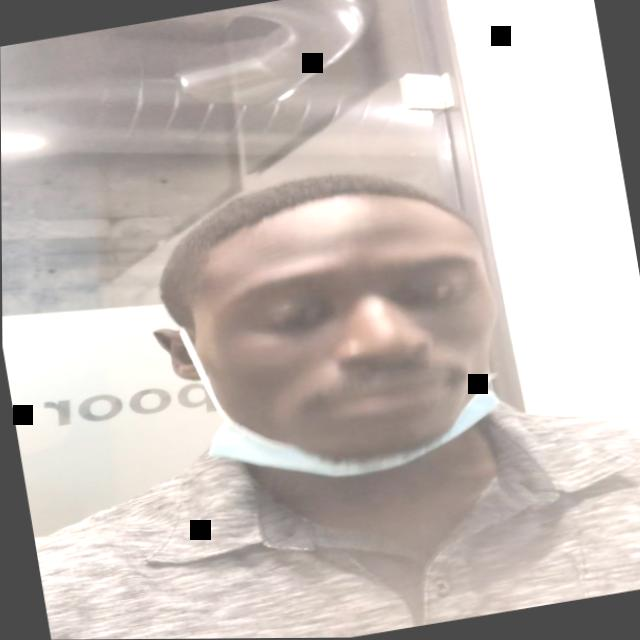NO-Mask: (159, 193, 514, 488)
